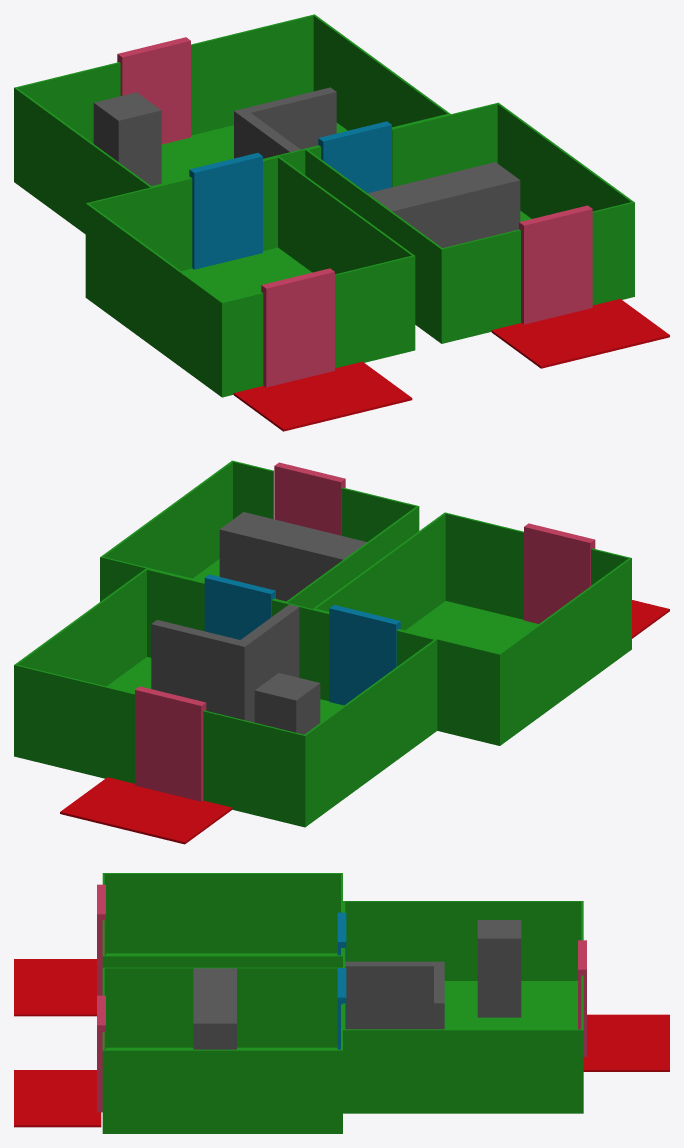
File: room.dae
The picture shows the model from 3 angles, top to bottom: view 1: azimuth 30°, elevation 25°; view 2: azimuth 150°, elevation 25°; view 3: azimuth 270°, elevation 25°; orthographic projection. The views are drawn at different scales.
Visible parts, largest first — view 1: room_001, room, room_002, pillar, zombie_door_001, zombie_door_002, player_door_a, zombie_spawn_area_002, zombie_spawn_area_001, zombie_door, player_door_b; view 2: room, room_001, pillar, room_002, zombie_door, zombie_spawn_area, player_door_a, zombie_door_001, zombie_door_002, player_door_b, zombie_spawn_area_001; view 3: room, room_002, room_001, pillar, zombie_spawn_area_002, zombie_spawn_area, zombie_spawn_area_001, zombie_door, zombie_door_002, zombie_door_001, player_door_b, player_door_a.
Boxes of the visible parts, left/top/right/bottom form: room_001: left=85, top=156, right=415, bottom=397; room: left=14, top=14, right=450, bottom=234; room_002: left=305, top=102, right=634, bottom=343; pillar: left=93, top=87, right=520, bottom=247; zombie_door_001: left=261, top=268, right=334, bottom=387; zombie_door_002: left=519, top=205, right=592, bottom=324; player_door_a: left=189, top=153, right=262, bottom=269; zombie_spawn_area_002: left=491, top=299, right=669, bottom=368; zombie_spawn_area_001: left=233, top=361, right=412, bottom=431; zombie_door: left=117, top=37, right=190, bottom=144; player_door_b: left=318, top=121, right=391, bottom=193; room: left=14, top=568, right=437, bottom=827; room_001: left=313, top=512, right=631, bottom=745; pillar: left=151, top=512, right=366, bottom=734; room_002: left=100, top=460, right=419, bottom=608; zombie_door: left=135, top=686, right=206, bottom=801; zombie_spawn_area: left=60, top=777, right=232, bottom=844; player_door_a: left=329, top=605, right=400, bottom=705; zombie_door_001: left=524, top=523, right=595, bottom=623; zombie_door_002: left=274, top=462, right=345, bottom=535; player_door_b: left=204, top=574, right=275, bottom=639; zombie_spawn_area_001: left=632, top=600, right=669, bottom=638; room: left=343, top=901, right=583, bottom=1113; room_002: left=102, top=967, right=342, bottom=1133; room_001: left=102, top=873, right=342, bottom=967; pillar: left=193, top=920, right=521, bottom=1049; zombie_spawn_area_002: left=14, top=1070, right=101, bottom=1127; zombie_spawn_area: left=583, top=1014, right=669, bottom=1071; zombie_spawn_area_001: left=14, top=959, right=96, bottom=1016; zombie_door: left=578, top=940, right=586, bottom=1056; zombie_door_002: left=97, top=995, right=105, bottom=1112; zombie_door_001: left=97, top=884, right=105, bottom=995; player_door_b: left=337, top=968, right=346, bottom=1049; player_door_a: left=337, top=912, right=346, bottom=961.
Bounding box in the file's own units: 19.22 × 30 × 4.5.
